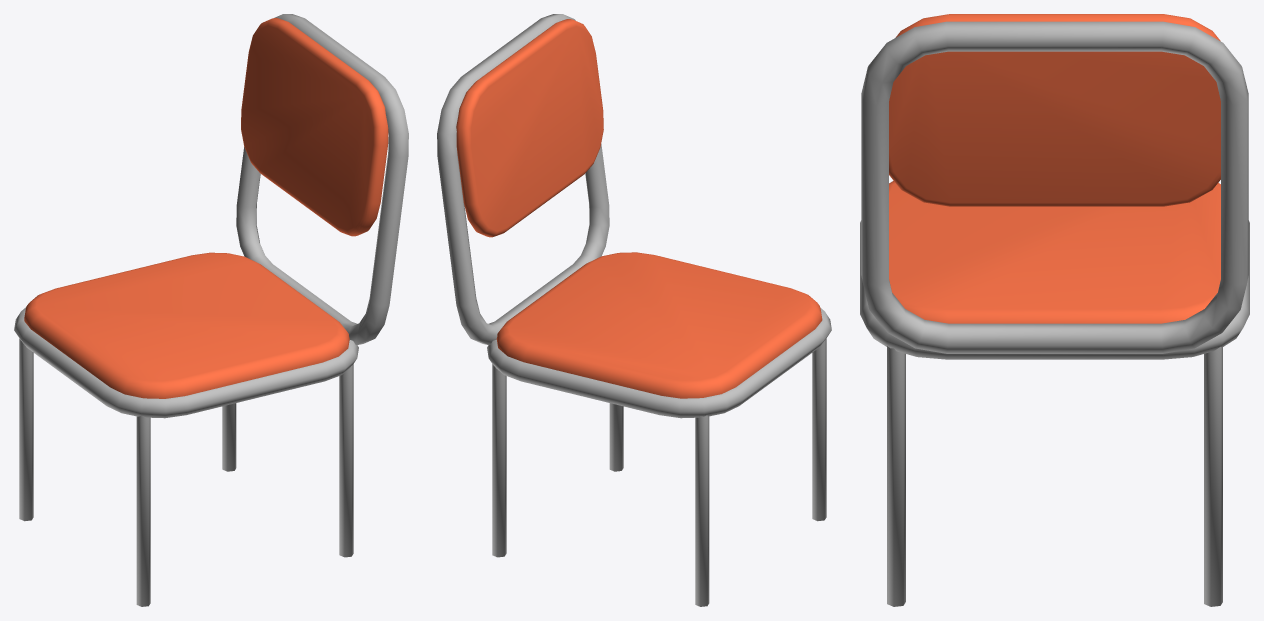
The model's file is Chair02.fbx.
3 views of the same model, side by side, from view 1: azimuth 30°, elevation 25°; view 2: azimuth 150°, elevation 25°; view 3: azimuth 270°, elevation 25° (orthographic). The views are drawn at different scales.
Parts seen in each view (by area): view 1: Chair02; view 2: Chair02; view 3: Chair02.
Part boxes in pixels (x1,y1,x2,y2): Chair02: (14,14,408,606); Chair02: (437,14,831,606); Chair02: (860,14,1249,606).
Bounding box in the file's own units: 0.4512 × 0.3936 × 0.6826.
